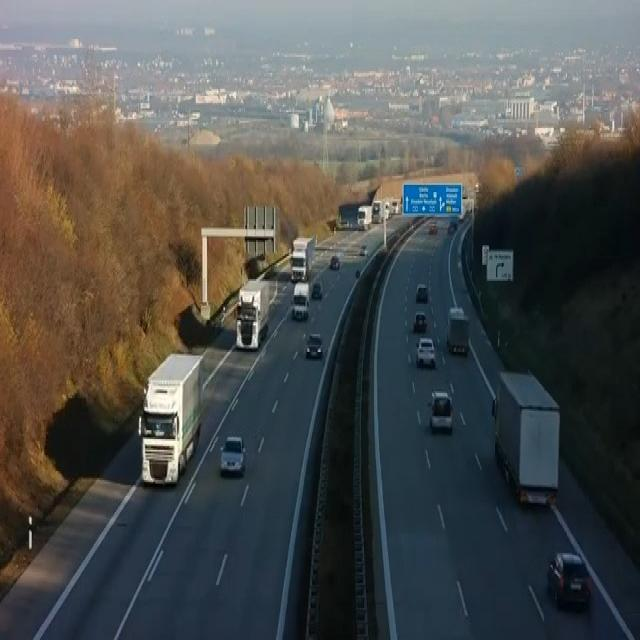car: (547, 551, 591, 610), (429, 389, 453, 432), (220, 436, 246, 474), (416, 336, 435, 368), (305, 333, 323, 359), (413, 311, 427, 331), (415, 283, 427, 302), (311, 281, 322, 299), (329, 254, 339, 268), (428, 220, 437, 233), (359, 244, 367, 256)
truck: (491, 368, 560, 508), (138, 352, 207, 485), (235, 279, 270, 350), (290, 235, 316, 281), (446, 306, 469, 356), (291, 281, 309, 320), (356, 204, 372, 230), (371, 199, 382, 222)
